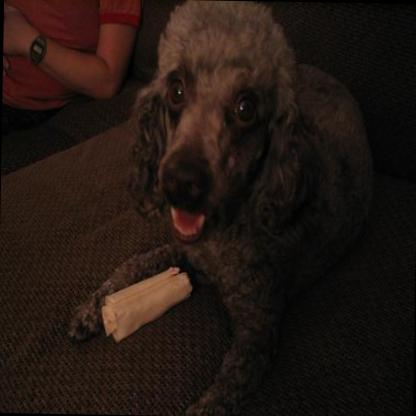miniature_poodle: (61, 0, 376, 416)
